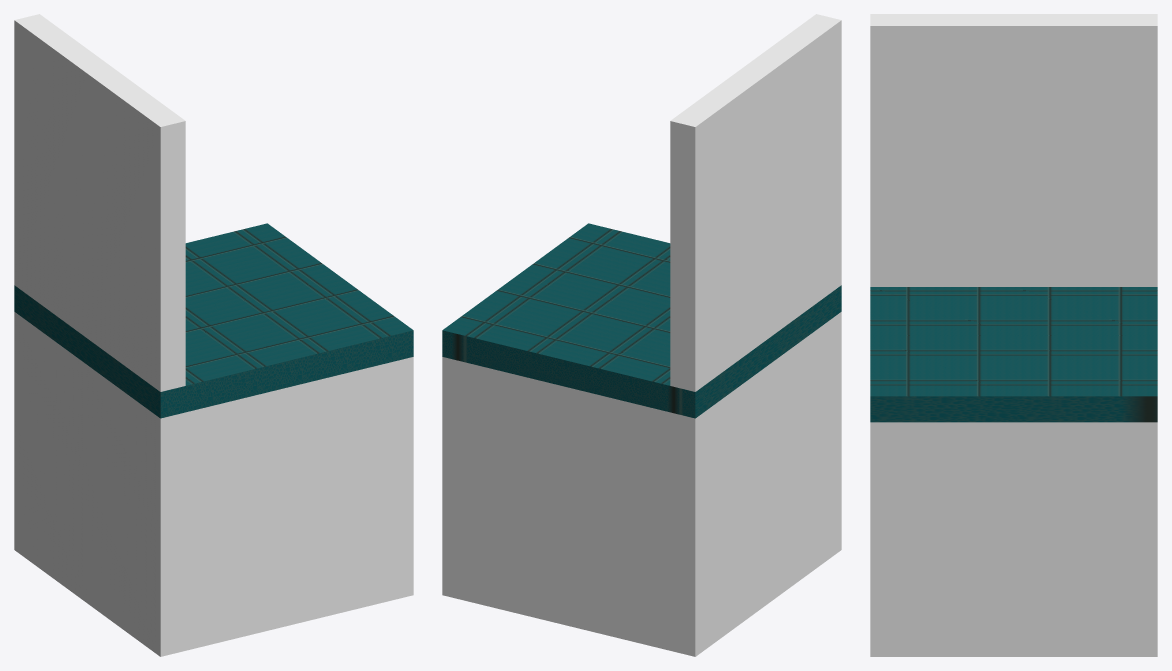
Rendered from tiles_floor_wall.glb.
The picture shows the model from 3 angles, left to right: view 1: azimuth 30°, elevation 25°; view 2: azimuth 150°, elevation 25°; view 3: azimuth 270°, elevation 25°; orthographic projection.
Parts seen in each view (by area): view 1: Floor_Edge; view 2: Floor_Edge; view 3: Floor_Edge.
Boxes of the visible parts, left/top/right/bottom form: Floor_Edge: left=14, top=14, right=413, bottom=656; Floor_Edge: left=442, top=14, right=841, bottom=656; Floor_Edge: left=870, top=14, right=1157, bottom=656.
Bounding box in the file's own units: 2 × 4 × 2.
Materials: 3 (1 with a texture image).
